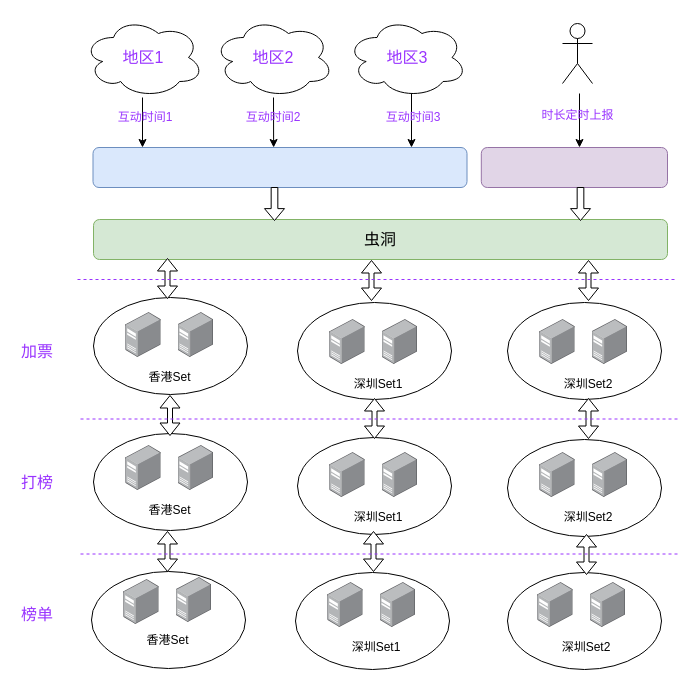
Image size: 699x687. Some labels were removed from this diagram. The centre of each missing label's shape, as x and y in pixels:
直播互动: pixel 279 167
观看统计: pixel 574 167
